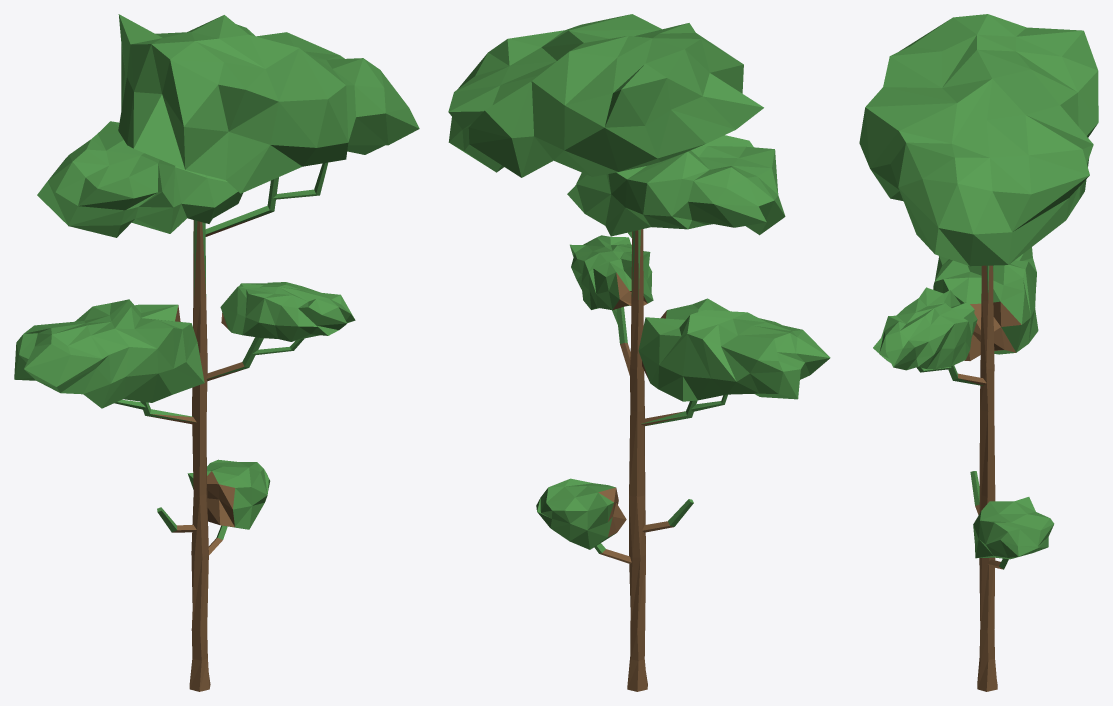
Rendered from tree3d-055.glb.
The picture shows the model from 3 angles, left to right: view 1: azimuth 30°, elevation 25°; view 2: azimuth 150°, elevation 25°; view 3: azimuth 270°, elevation 25°; orthographic projection.
Parts seen in each view (by area): view 1: tree3d-055; view 2: tree3d-055; view 3: tree3d-055.
Boxes of the visible parts, x1,y1,x2,y2 form: tree3d-055: (14, 14, 419, 691); tree3d-055: (448, 14, 830, 691); tree3d-055: (859, 14, 1098, 691).
Size of the model in its own units: 0.6058 by 1 by 0.3337.
